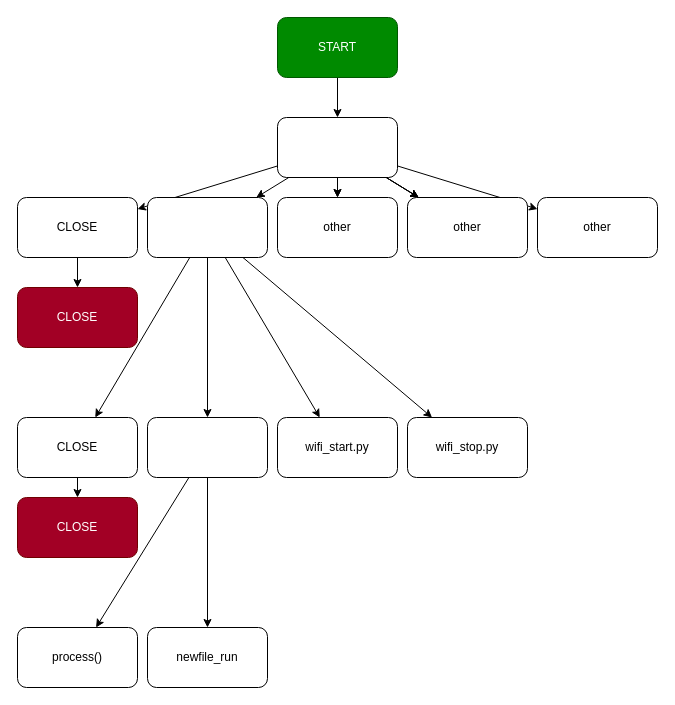
Image size: 675x705. Some labels were removed from this diagram. Here are the shapes that lost their labels. From the top down, the centre of each, then its label:
point 337,147: menu_1.py
point 207,227: wifi_sniffer.py
point 207,447: wifi_newfile.py
